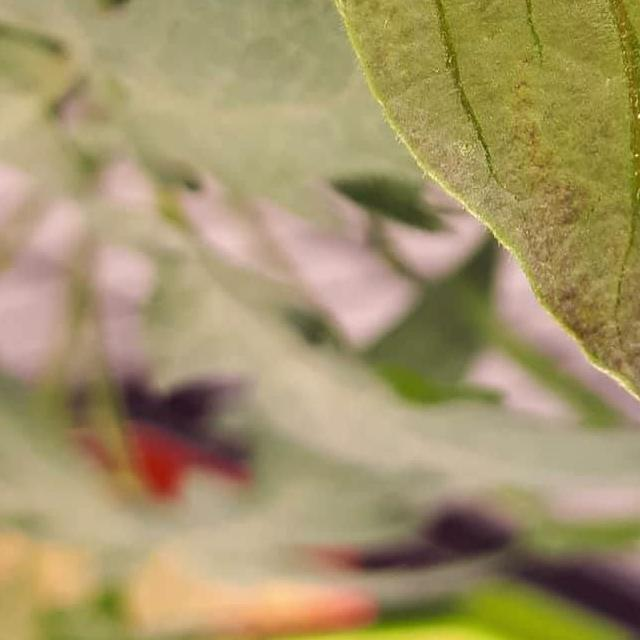Tomato mold leaf: (258, 0, 640, 452)
